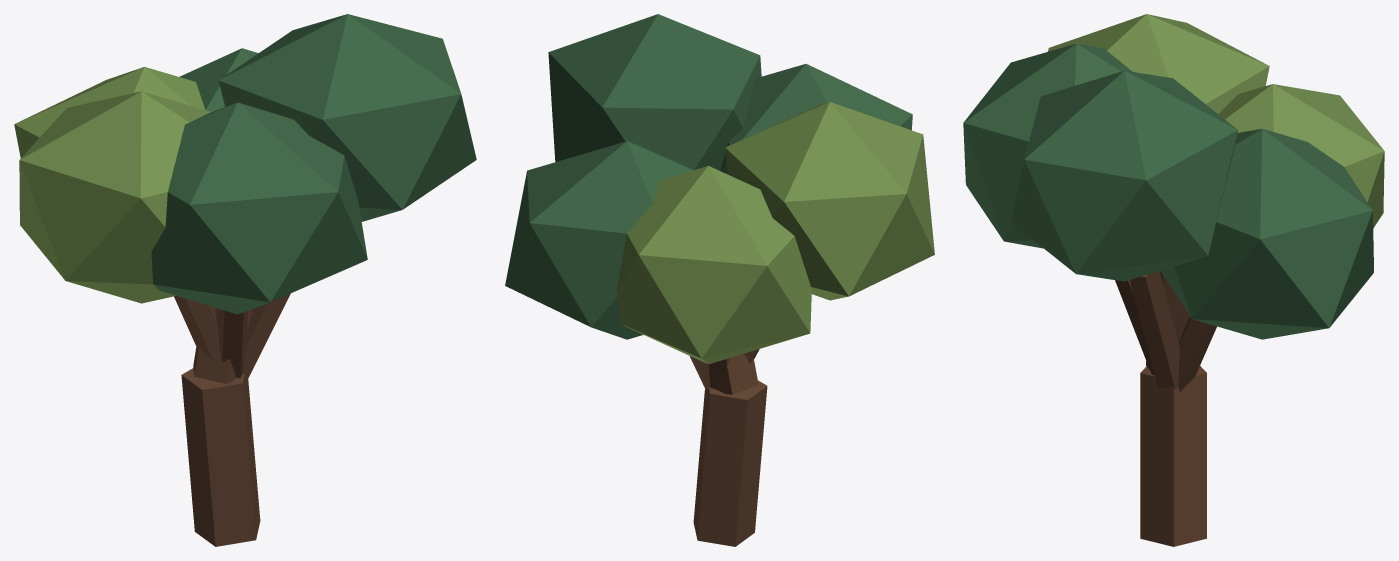
File: Broadleaf_B.fbx
3 views of the same model, side by side, from view 1: azimuth 30°, elevation 25°; view 2: azimuth 150°, elevation 25°; view 3: azimuth 270°, elevation 25° (orthographic). The views are drawn at different scales.
Parts seen in each view (by area): view 1: Broadleaf_B; view 2: Broadleaf_B; view 3: Broadleaf_B.
Boxes of the visible parts, x1,y1,x2,y2 form: Broadleaf_B: (14, 14, 476, 546); Broadleaf_B: (505, 14, 934, 546); Broadleaf_B: (963, 14, 1384, 546).
Size of the model in its own units: 2.22 by 2.71 by 2.02.
1 material, 1 textured.
